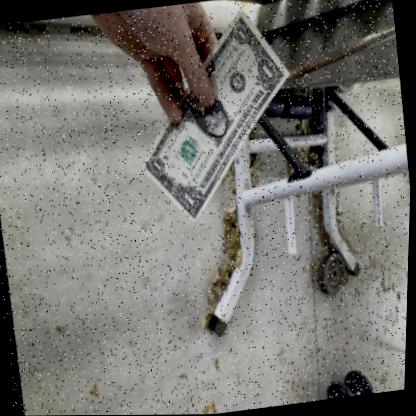dollar_front: (139, 5, 287, 225)
